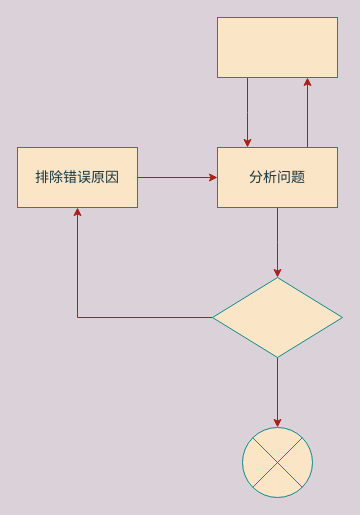
Image size: 360x515. Some labels were removed from this diagram. The shapes that lost their labels are listed below. From the top down, each one's box as (x1, y1, x2, y2) in pixels, then its label:
(216, 16, 338, 78): 复现问题
(212, 276, 342, 358): 尝试解决
